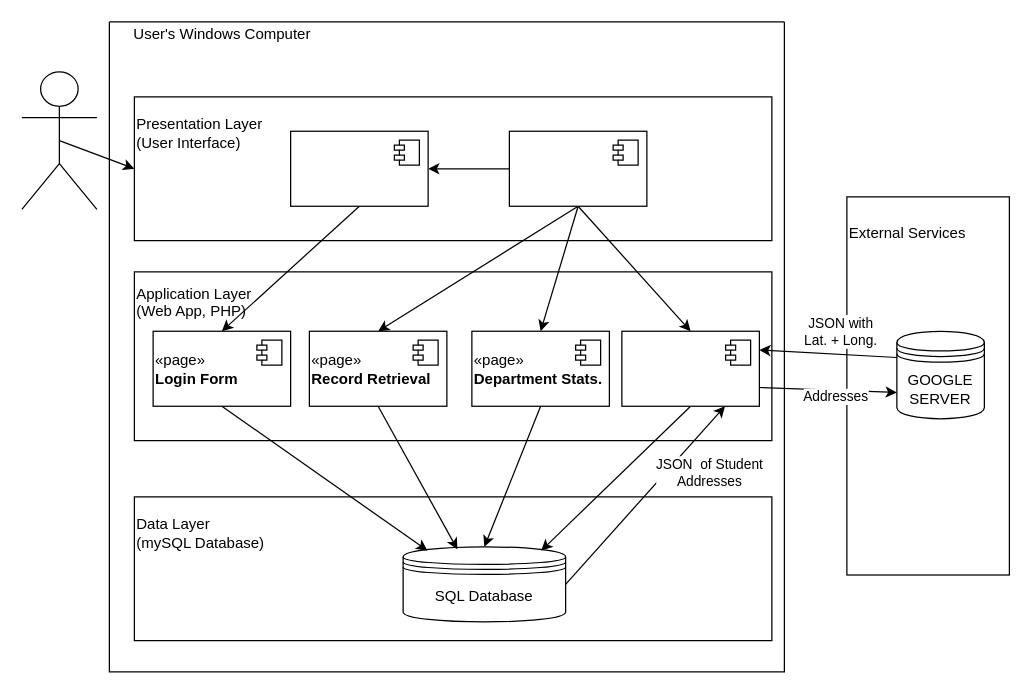
Some shapes in this 1031 by 694 pixel diagram are drawn without their labels. Here are the shapes that lost their labels. From the top down, the box of each, then its label:
(21, 71, 97, 209): User
(289, 130, 428, 206): «component» Log In/Out
(508, 130, 647, 206): «component» Navigation
(621, 330, 759, 406): «page» map.html
